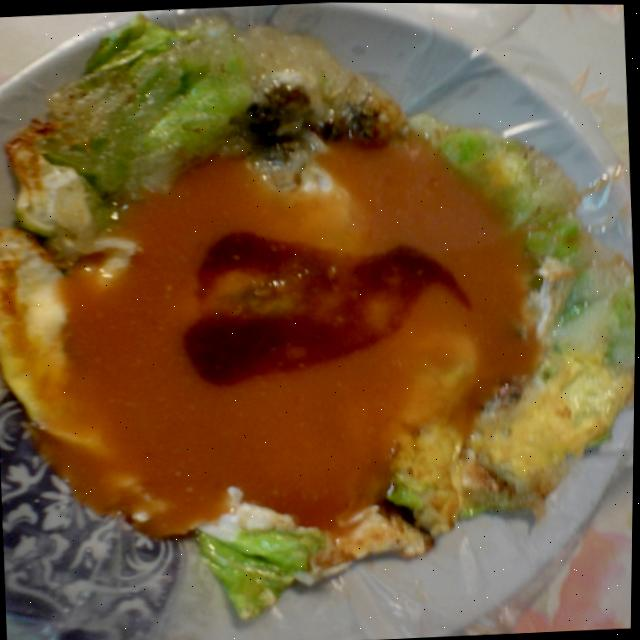熟制海鲜: (0, 3, 639, 622)
